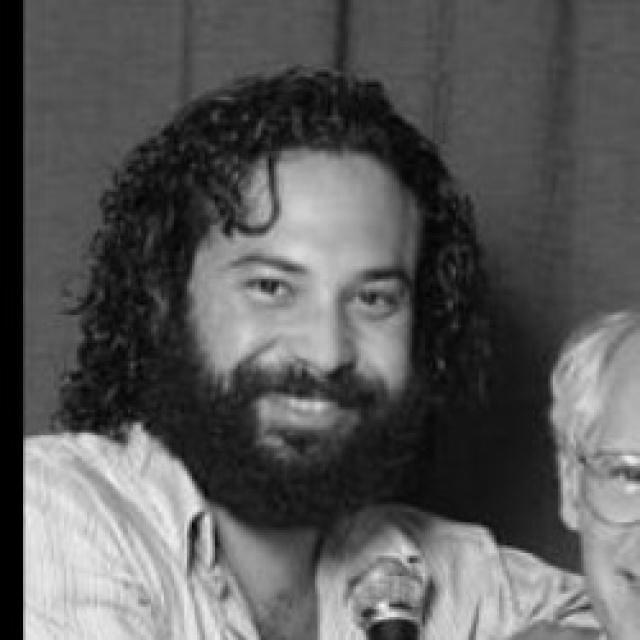real: (186, 142, 422, 482), (236, 260, 404, 330), (604, 453, 640, 492)
